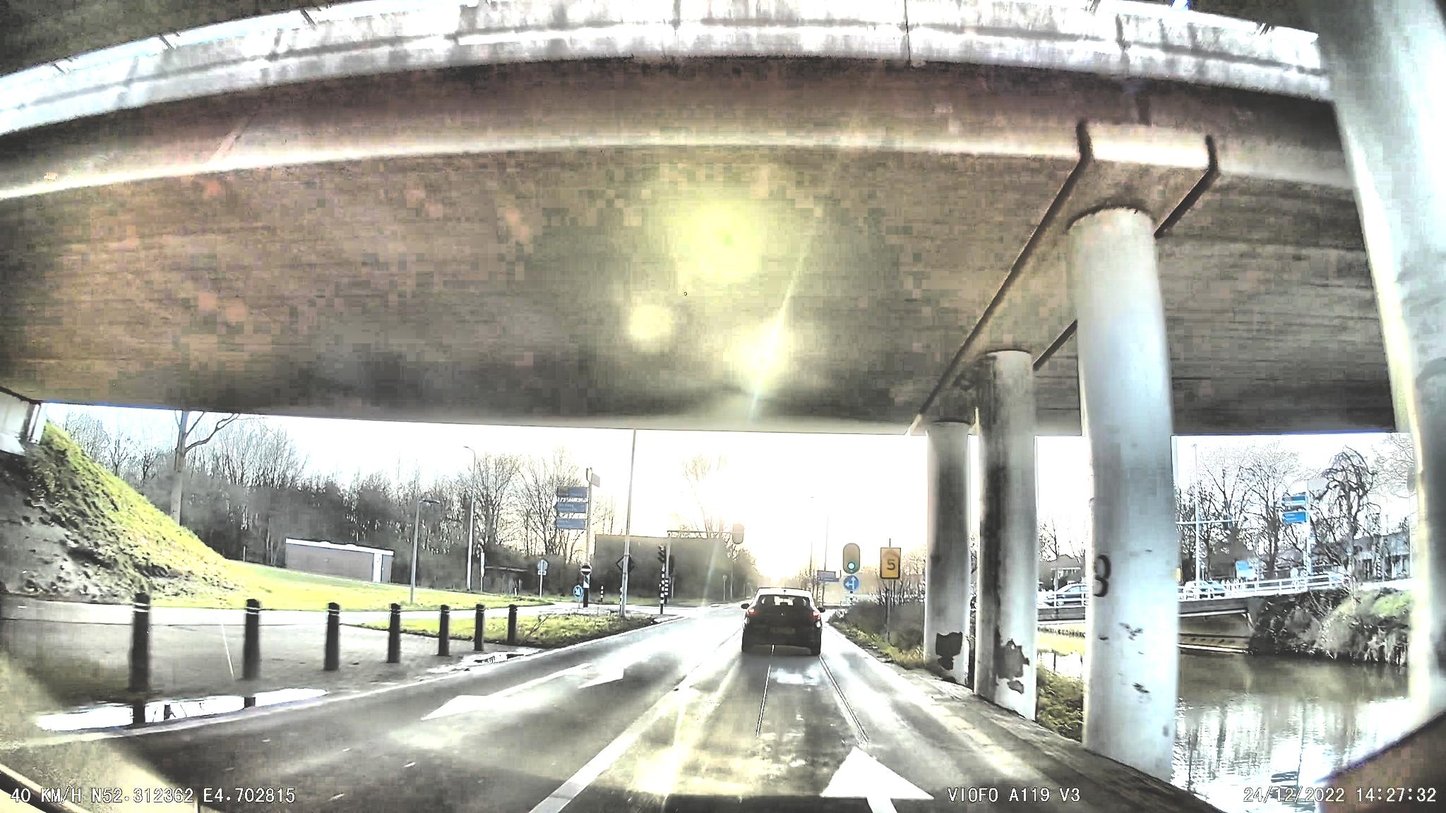Roads: (0, 617, 1229, 813)
